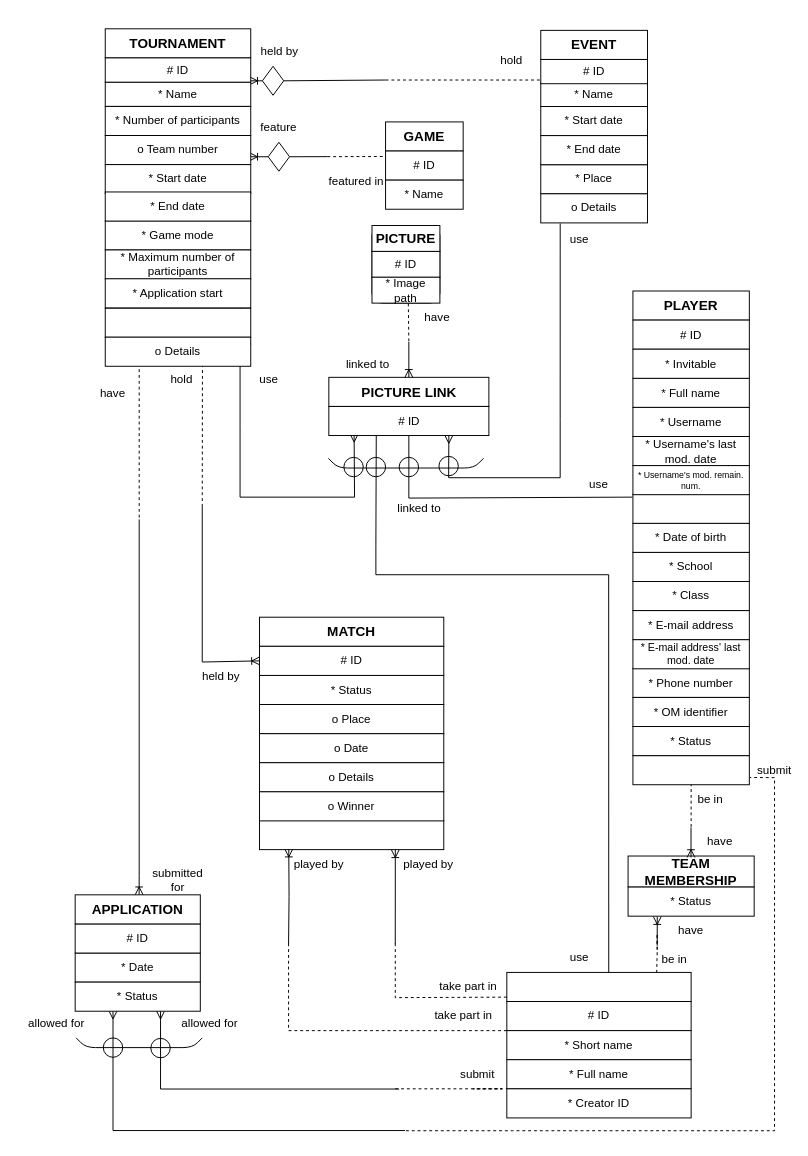
Some shapes in this 808 by 1156 pixel diagram are drawn without their labels. The shapes that lost their labels are listed below. From the top down, each one's centre as x and y in pixels, then its label:
At [177,322]: "* Application end".
At [690,508]: "* Password".
At [690,770]: "* Discord name".
At [351,835]: "o Result".
At [598,986]: "TEAM".
